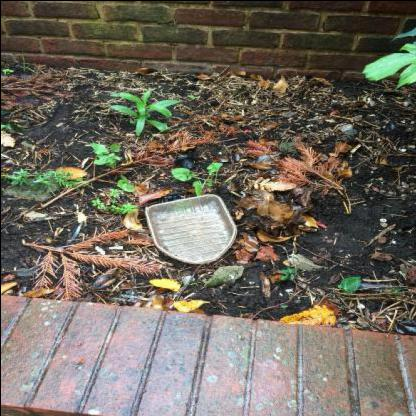Other plastic: (174, 154, 196, 170), (157, 193, 183, 203)
Plastic bag - wrapper: (66, 220, 82, 242), (118, 293, 152, 301)
Plastic container: (144, 193, 236, 263)
